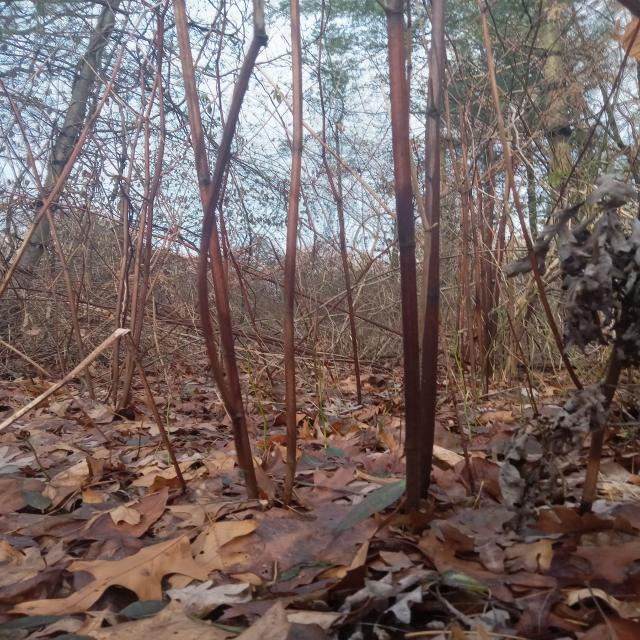knotweed-stems: (171, 1, 267, 502), (377, 1, 446, 515)
